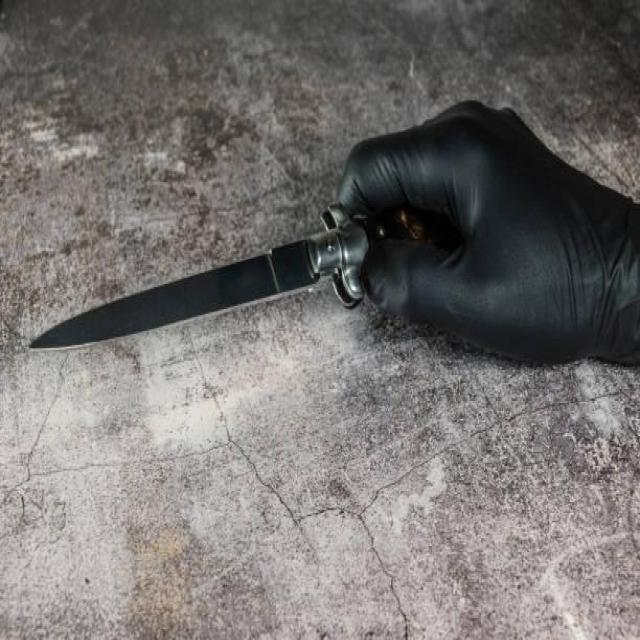faca: (0, 86, 609, 403)
